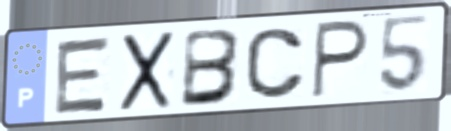5: (376, 12, 433, 97)
B: (178, 27, 245, 110)
C: (243, 25, 309, 101)
E: (50, 34, 114, 117)
P: (308, 17, 372, 101)
X: (116, 28, 178, 115)
